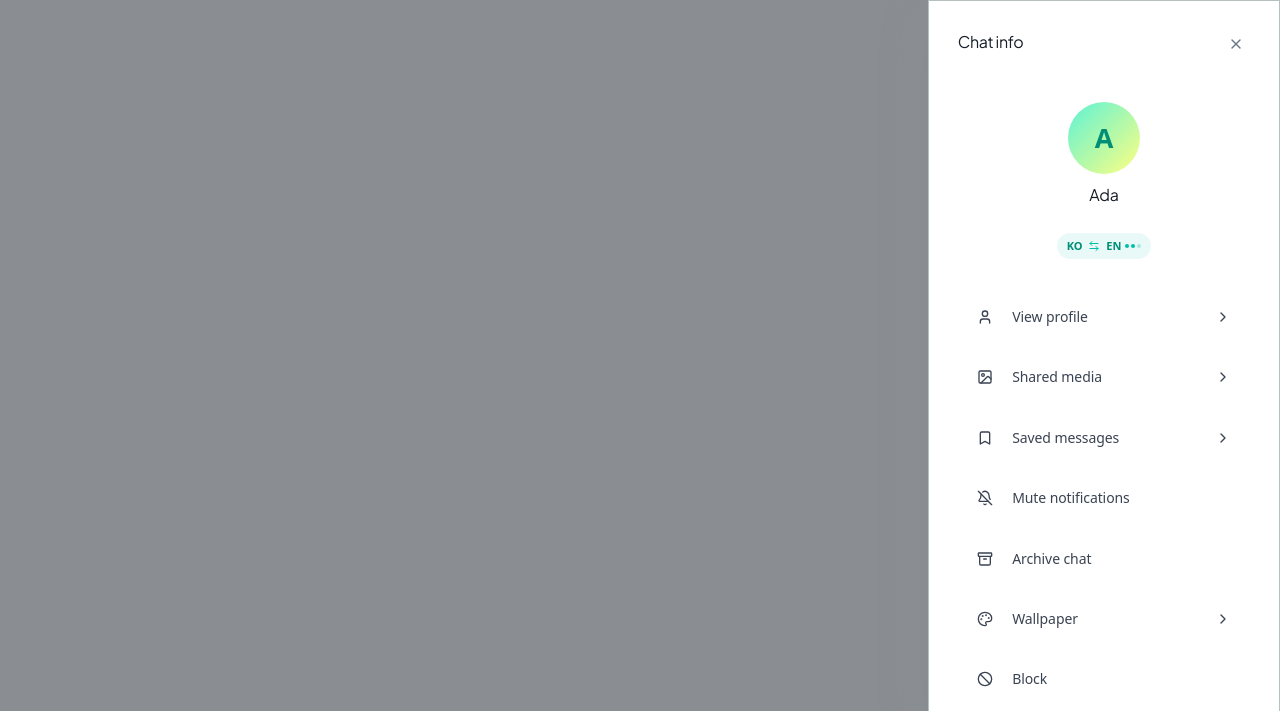
Test: the entries the panel offers › opens the wallpaper picker on the wallpaper the conversation wears
Click the button with test id "chat-info-wallpaper". click: (1045, 618)
box: top-left (958, 590), bottom-right (1250, 648)
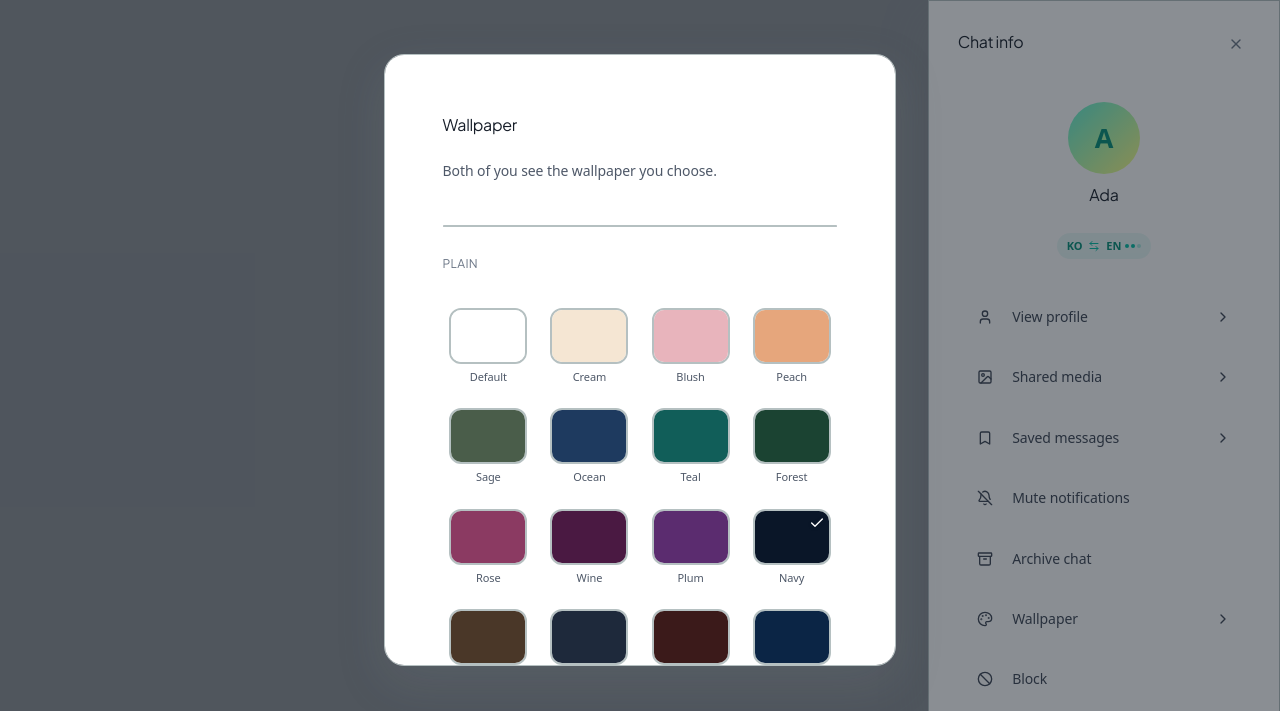
Now the dialog with test id "chat-wallpaper-dialog" is shown, box top-left (384, 54), bottom-right (896, 666)
